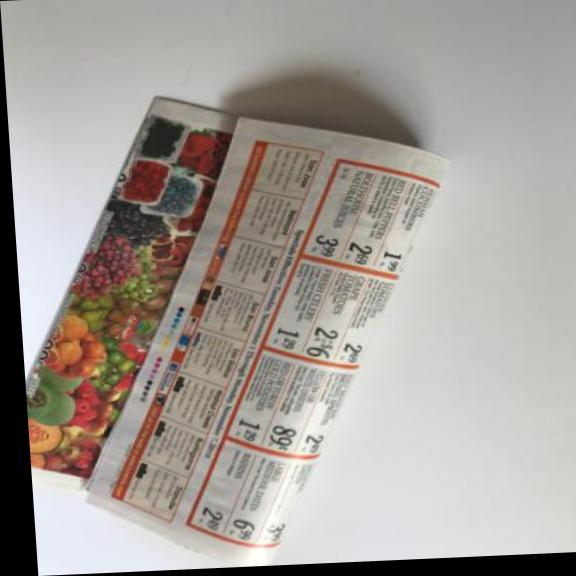Kertas: (6, 69, 486, 575)
